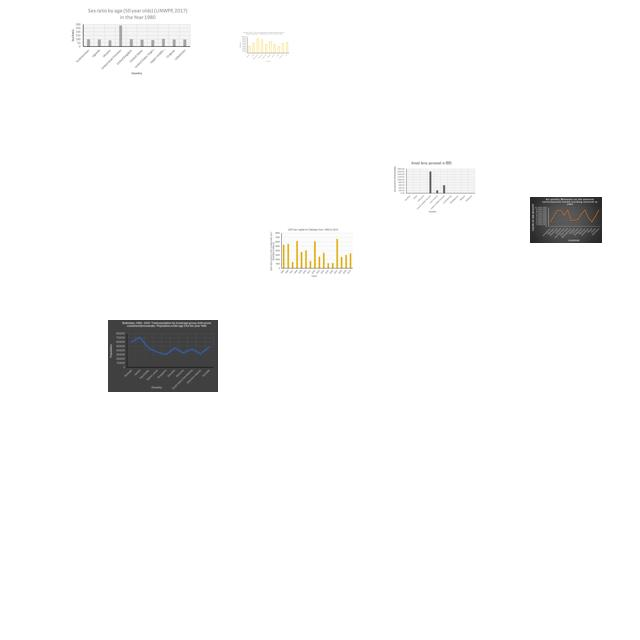Graph: (68, 6, 192, 76), (108, 320, 218, 392), (393, 160, 477, 215), (269, 227, 354, 278), (530, 197, 602, 243), (238, 31, 290, 62)
